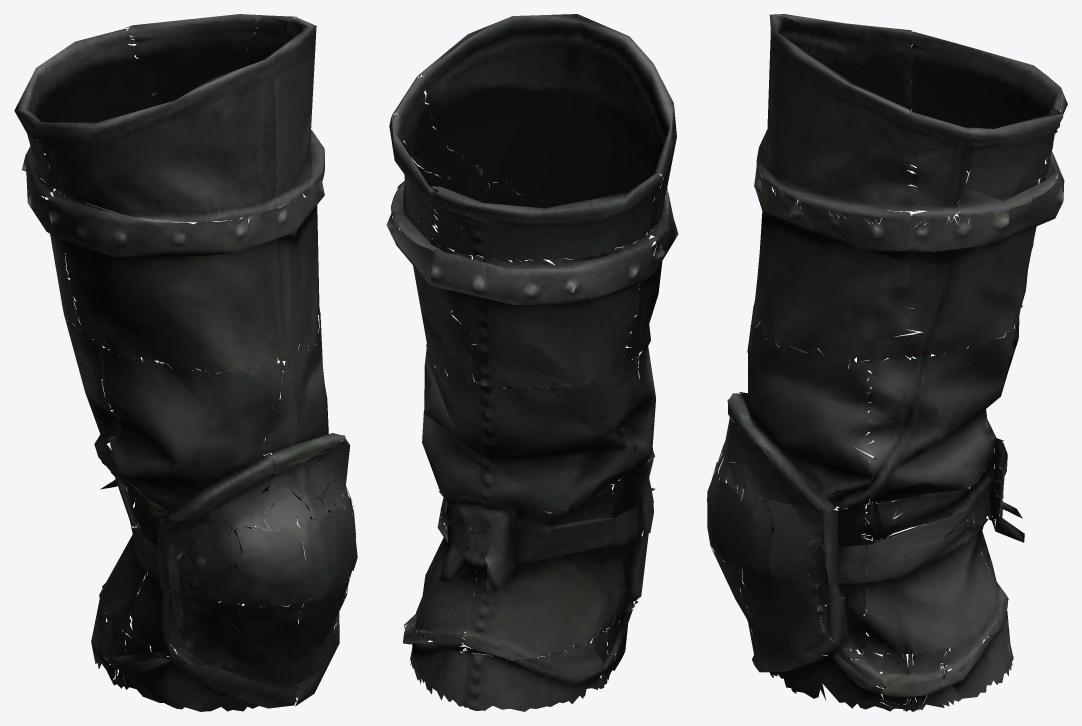
Rendered from a_black_greaves_R.glb.
The picture shows the model from 3 angles, left to right: view 1: azimuth 30°, elevation 25°; view 2: azimuth 150°, elevation 25°; view 3: azimuth 270°, elevation 25°; orthographic projection. The views are drawn at different scales.
Visible parts, largest first — view 1: geometry_0.002; view 2: geometry_0.002; view 3: geometry_0.002.
Boxes of the visible parts, <box> form: geometry_0.002: <box>14,14,357,711</box>; geometry_0.002: <box>386,14,678,711</box>; geometry_0.002: <box>707,14,1067,711</box>.
Bounding box in the file's own units: 0.14 × 0.3187 × 0.164.
Materials: 1 (1 with a texture image).
